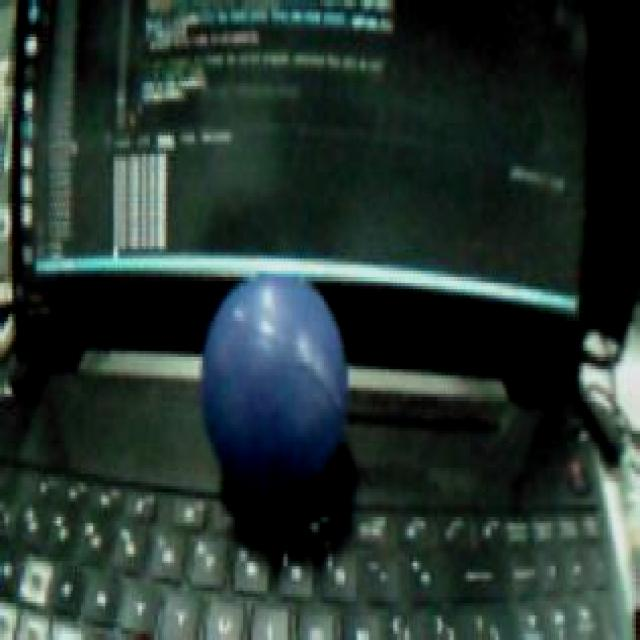BallPurple: (202, 270, 345, 494)
